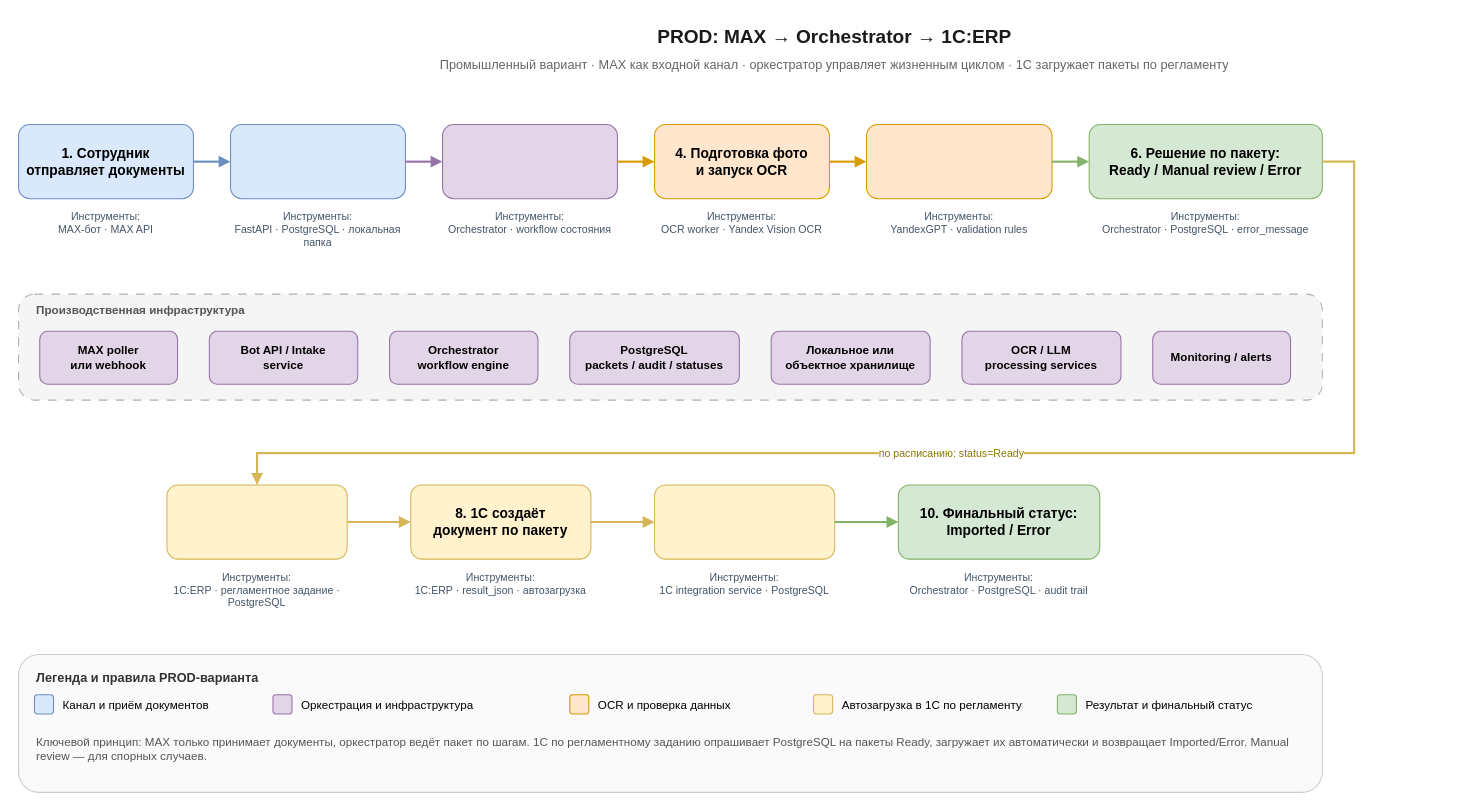
Image size: 1479x811. Some labels were removed from this diagram. The centre of each missing label's shape, as x and y in pixels:
2. Сервис принимает и собирает пакет: point 317,161
3. Оркестратор запускает обработку: point 529,161
5. Извлечение данных и проверка качества: point 958,161
7. Регламентное задание 1С опрашивает PostgreSQL: point 256,521
9. 1С возвращает результат загрузки: point 744,521
